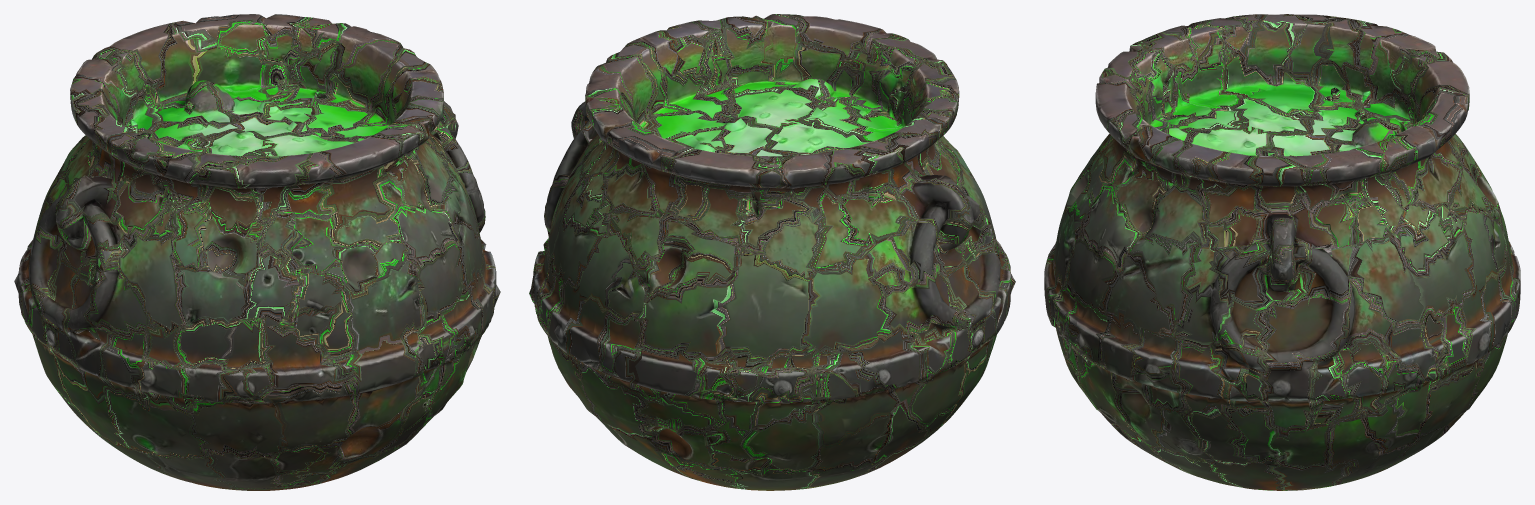
Rendered from cauldron.glb.
The picture shows the model from 3 angles, left to right: view 1: azimuth 30°, elevation 25°; view 2: azimuth 150°, elevation 25°; view 3: azimuth 270°, elevation 25°; orthographic projection.
Size of the model in its own units: 1.9 by 1.53 by 1.88.
1 material, 1 textured.
